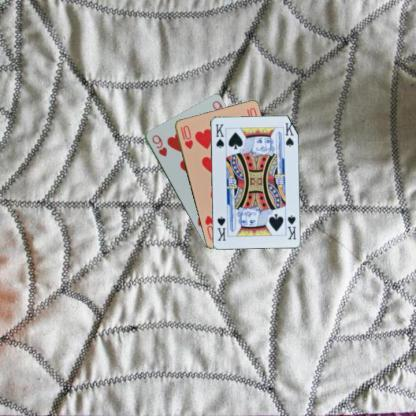10h: (178, 122, 194, 150)
9h: (149, 132, 168, 158)
Ks: (213, 121, 225, 149), (285, 213, 297, 240)
